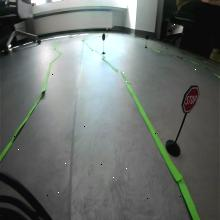stop: (182, 85, 200, 113)
